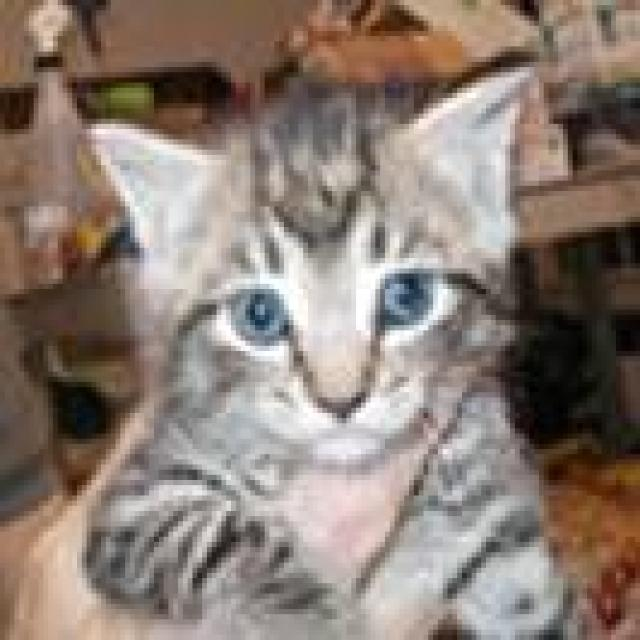cat: (72, 62, 582, 635)
